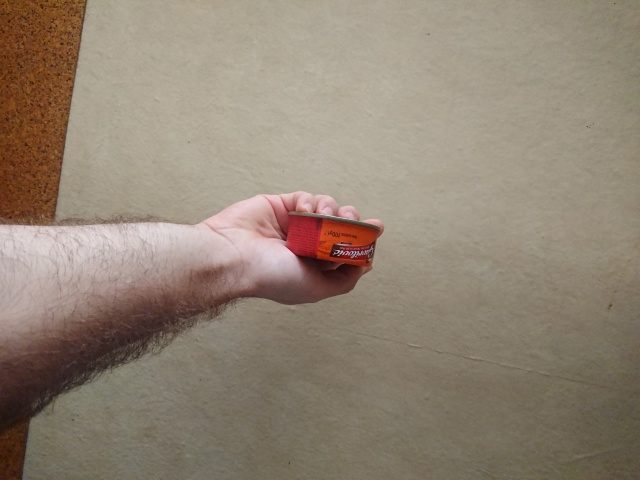Gavrilovic Pork Liver Pate 100g: (284, 209, 383, 268)
